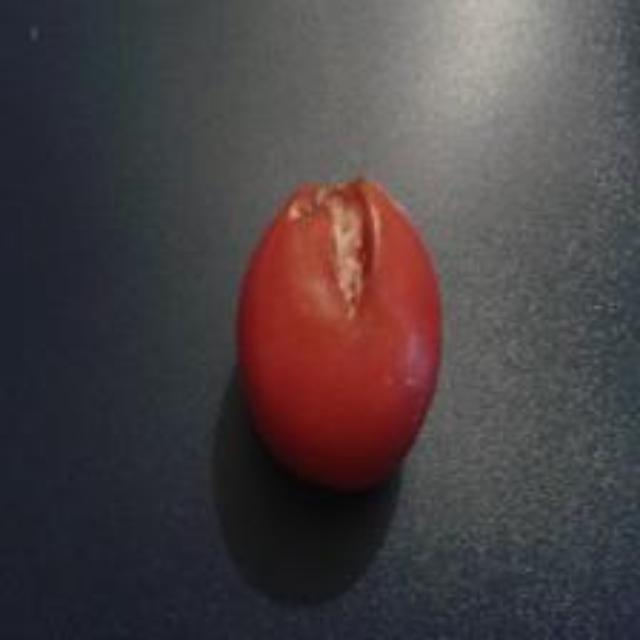defect: (220, 163, 459, 503)
